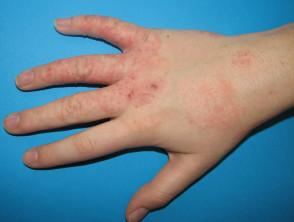Eczema: (202, 91, 233, 125), (88, 22, 125, 32), (236, 55, 252, 67), (135, 49, 147, 56), (126, 93, 135, 101), (150, 84, 158, 91), (129, 78, 139, 82)
